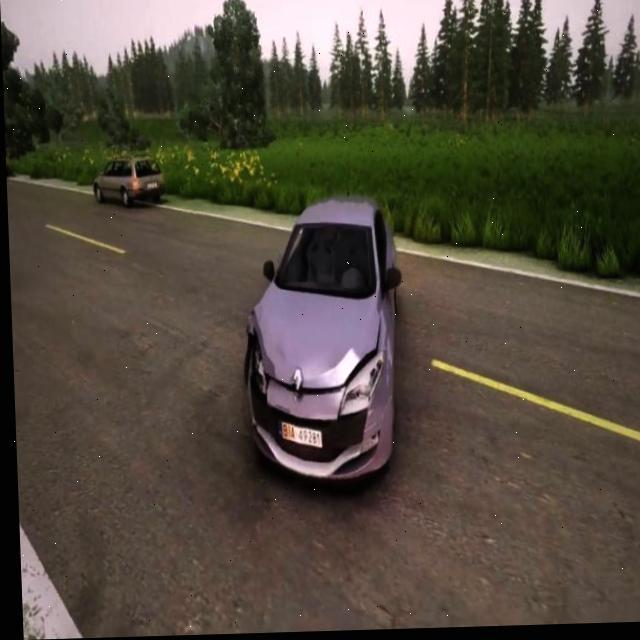normal: (85, 136, 164, 225)
single accident: (223, 172, 411, 498)
